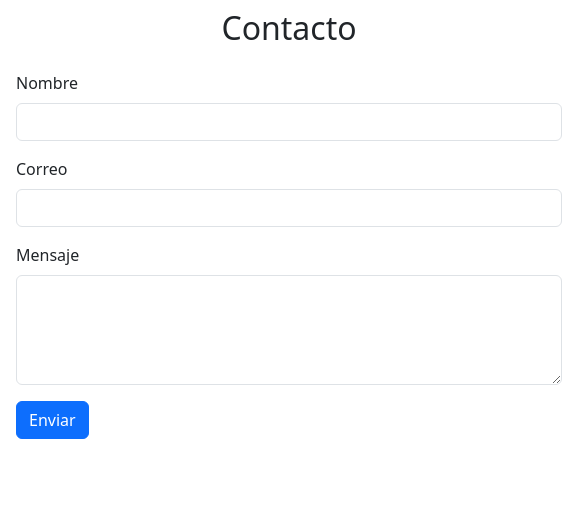
Contacto › muestra error si se envia vacio
Click the button "Enviar". click: (52, 420)
box: [16, 401, 89, 439]
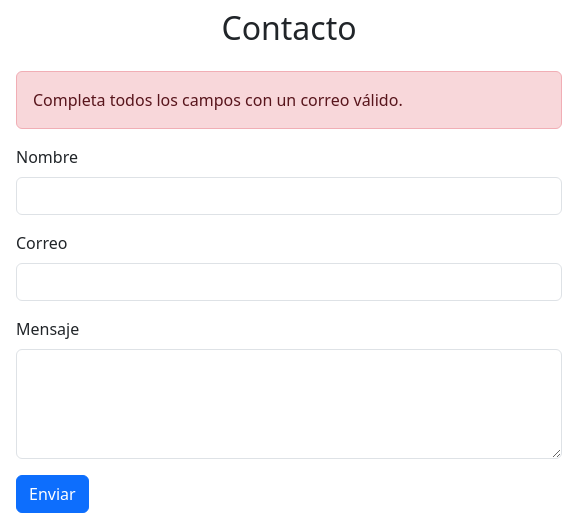
Check: the text "Completa todos los campos con un correo válido." is shown, box [16, 71, 562, 129]
